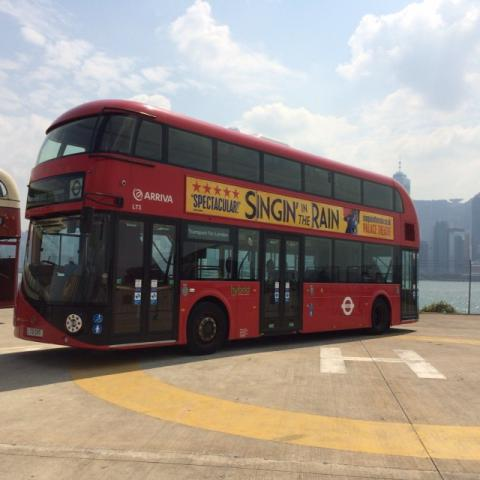bus: (9, 97, 420, 353)
